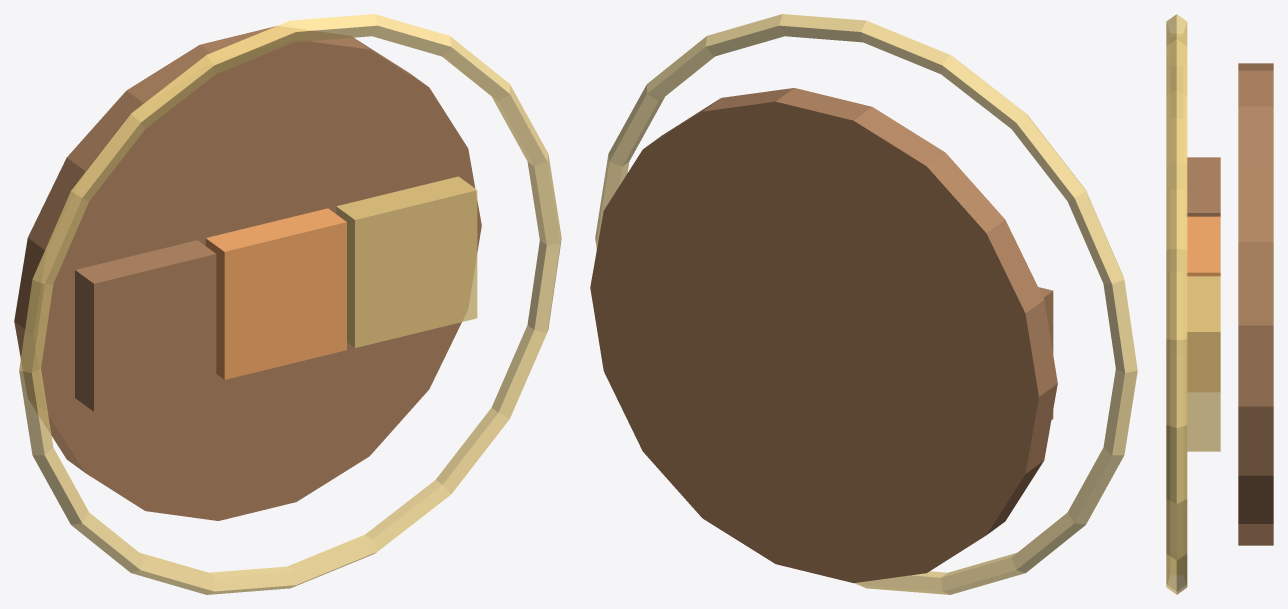
File: 05_biome_recolor_overlay_5.glb
The picture shows the model from 3 angles, left to right: view 1: azimuth 30°, elevation 25°; view 2: azimuth 150°, elevation 25°; view 3: azimuth 270°, elevation 25°; orthographic projection. The views are drawn at different scales.
Visible parts, largest first — view 1: palette_base, recolor_ring, swatch_base, swatch_accent, swatch_glow; view 2: palette_base, recolor_ring; view 3: palette_base, recolor_ring, swatch_glow, swatch_accent, swatch_base.
Part boxes in pixels (x1=…): palette_base: x1=14, y1=26, x2=481, y2=520; recolor_ring: x1=19, y1=14, x2=561, y2=594; swatch_base: x1=75, y1=240, x2=216, y2=411; swatch_accent: x1=205, y1=208, x2=346, y2=379; swatch_glow: x1=336, y1=176, x2=477, y2=347; palette_base: x1=590, y1=88, x2=1057, y2=583; recolor_ring: x1=595, y1=14, x2=1137, y2=594; palette_base: x1=1238, y1=63, x2=1273, y2=545; recolor_ring: x1=1166, y1=14, x2=1187, y2=594; swatch_glow: x1=1187, y1=276, x2=1220, y2=451; swatch_accent: x1=1186, y1=216, x2=1220, y2=391; swatch_base: x1=1186, y1=157, x2=1220, y2=216.
Bounding box in the file's own units: 1.33 × 1.33 × 0.2438.
